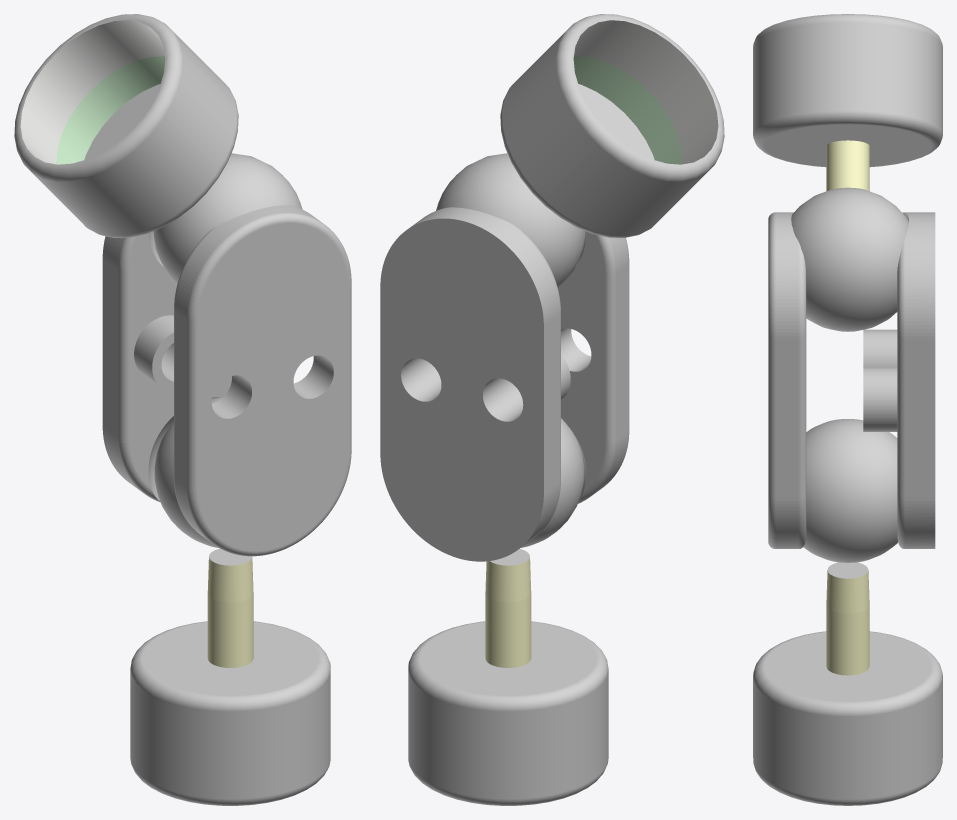
Rendered from ball.glb.
3 views of the same model, side by side, from view 1: azimuth 30°, elevation 25°; view 2: azimuth 150°, elevation 25°; view 3: azimuth 270°, elevation 25° (orthographic). The views are drawn at different scales.
Parts seen in each view (by area): view 1: top, ball (1), insert (1), insert_end, ball (1) (1); view 2: insert_end, ball (1), insert (1), top, ball (1) (1); view 3: ball (1), insert (1), insert_end, top, ball (1) (1).
Part boxes in pixels (bbox=[...]): top: bbox=[174, 205, 351, 556]; ball (1): bbox=[14, 14, 302, 283]; insert (1): bbox=[130, 548, 330, 805]; insert_end: bbox=[102, 231, 231, 502]; ball (1) (1): bbox=[154, 397, 222, 547]; insert_end: bbox=[380, 207, 570, 561]; ball (1): bbox=[436, 14, 724, 287]; insert (1): bbox=[408, 548, 608, 805]; top: bbox=[558, 231, 629, 503]; ball (1) (1): bbox=[521, 418, 584, 547]; ball (1): bbox=[753, 14, 942, 331]; insert (1): bbox=[753, 562, 942, 805]; insert_end: bbox=[863, 212, 935, 548]; top: bbox=[768, 212, 806, 548]; ball (1) (1): bbox=[803, 419, 897, 562].
Bounding box in the file's own units: 4.12 × 10.48 × 2.5.
